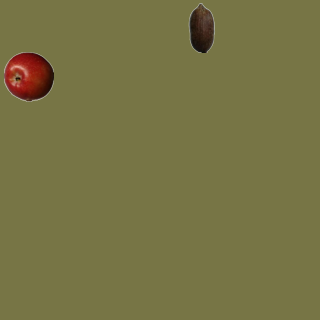Apple Braeburn: (3, 51, 53, 101)
Nut Pecan: (176, 2, 226, 52)
